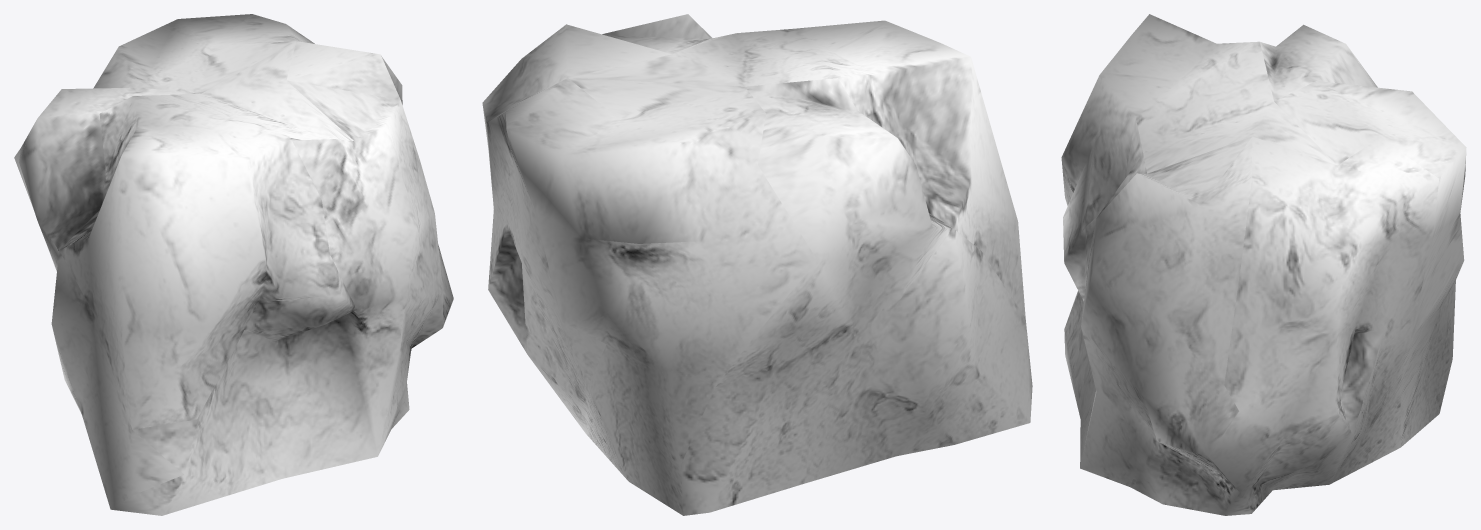
Rendered from Rock001_collider.fbx.
The picture shows the model from 3 angles, left to right: view 1: azimuth 30°, elevation 25°; view 2: azimuth 150°, elevation 25°; view 3: azimuth 270°, elevation 25°; orthographic projection. The views are drawn at different scales.
Parts seen in each view (by area): view 1: Rock001; view 2: Rock001; view 3: Rock001.
Part boxes in pixels (x1,y1,x2,y2): Rock001: (14,14,453,515); Rock001: (482,14,1032,515); Rock001: (1061,14,1466,515).
Size of the model in its own units: 4.18 by 3.41 by 3.6.
